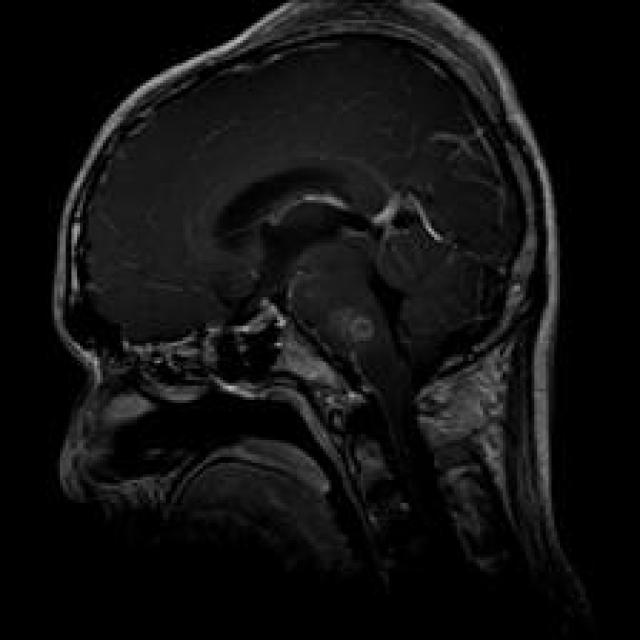glioma_tumor: (304, 297, 401, 382)
